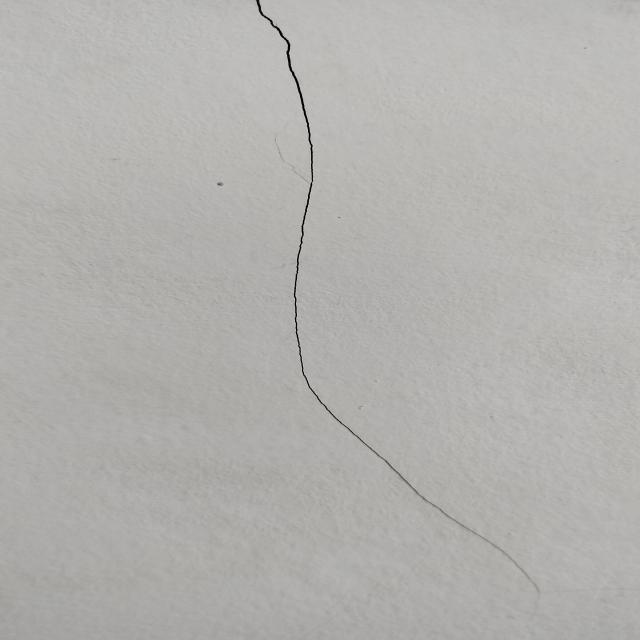Crack: (248, 0, 551, 603)
